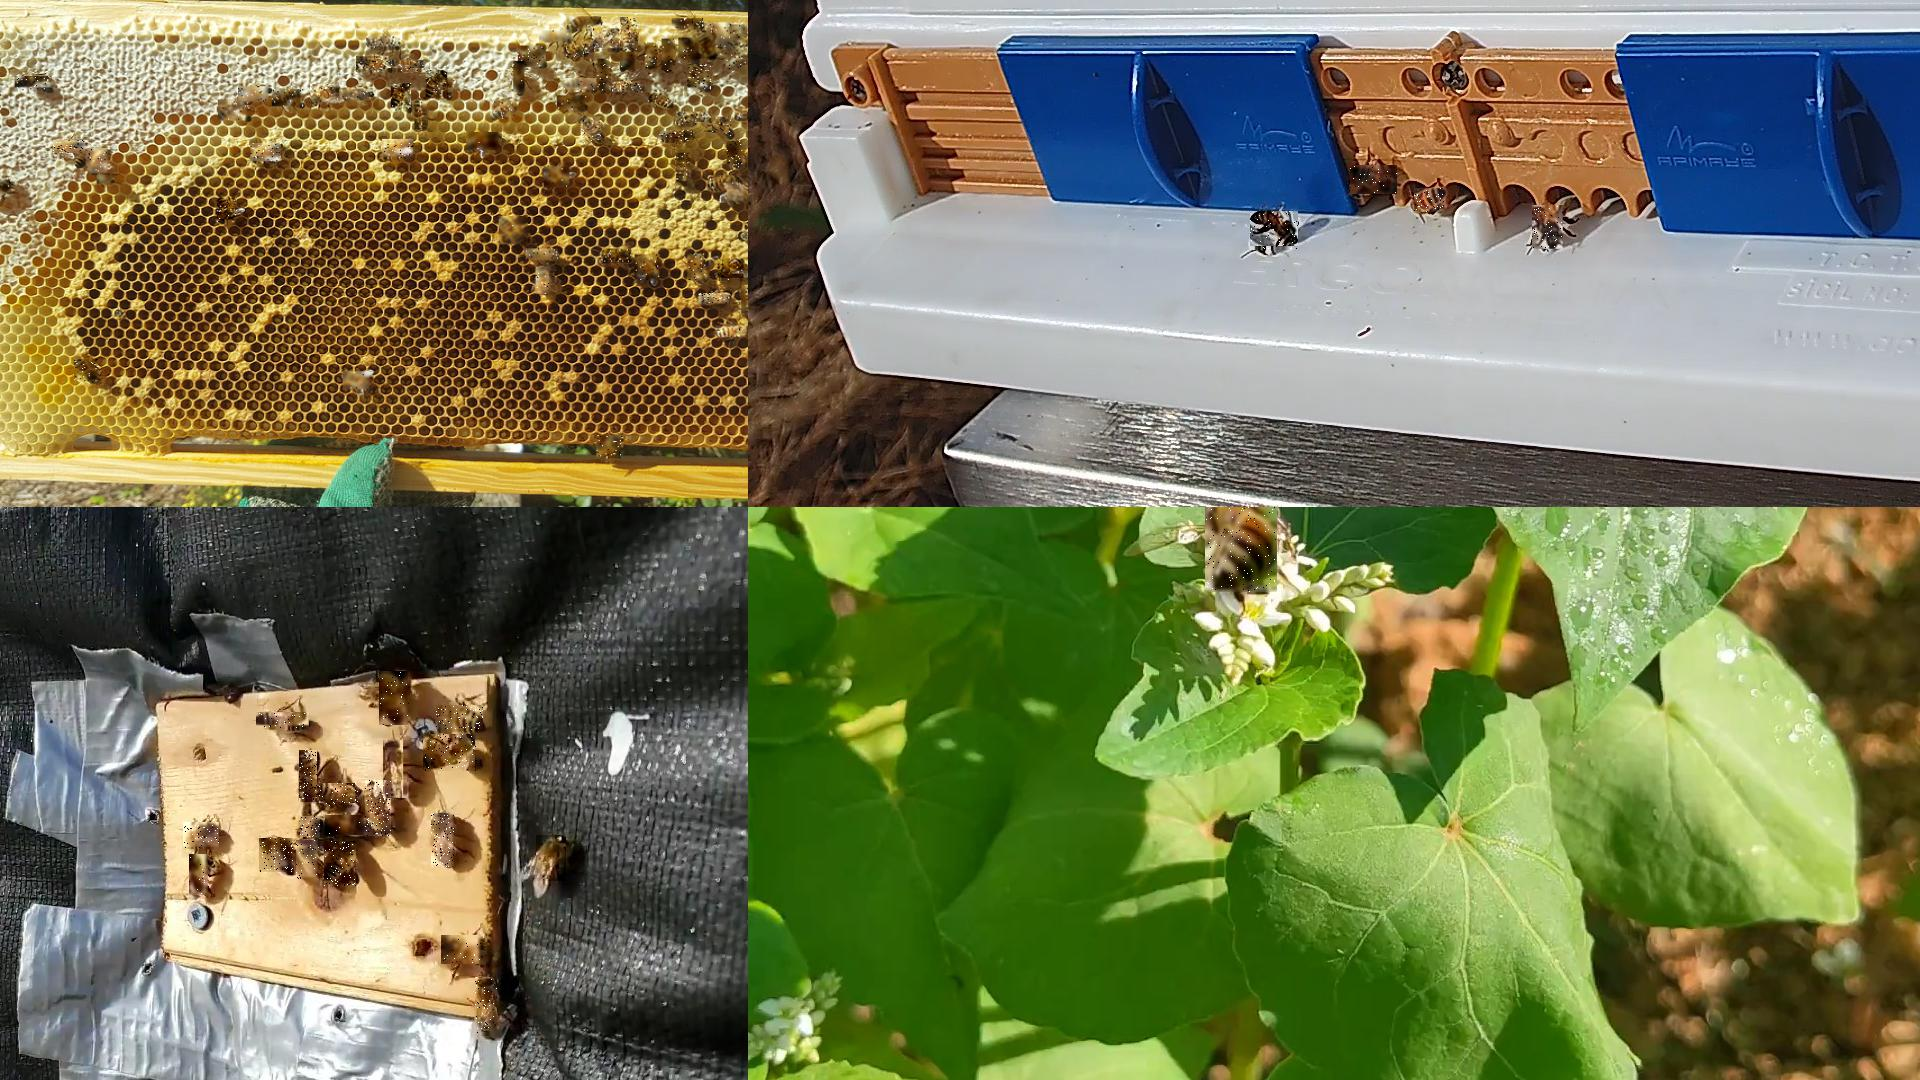bee: (1205, 506, 1279, 595), (423, 735, 480, 771), (1250, 212, 1299, 251), (380, 671, 411, 727), (324, 841, 357, 887), (365, 781, 392, 837), (537, 836, 567, 885), (1350, 165, 1398, 195), (1532, 206, 1564, 251), (384, 740, 407, 799), (475, 977, 498, 1036), (433, 814, 458, 869), (442, 935, 484, 965), (260, 839, 295, 874), (436, 705, 484, 732), (299, 750, 318, 803), (183, 823, 220, 849), (319, 785, 360, 808), (297, 841, 320, 881), (256, 713, 310, 731), (500, 216, 531, 245), (190, 855, 211, 898), (326, 815, 367, 836), (1414, 189, 1447, 214), (426, 70, 452, 100), (219, 100, 252, 123), (634, 256, 661, 284), (467, 132, 501, 153), (597, 435, 625, 460), (688, 65, 713, 92), (708, 24, 733, 50), (592, 29, 620, 53), (381, 140, 414, 160), (518, 46, 547, 69), (390, 84, 413, 113), (582, 117, 605, 144), (251, 142, 282, 162), (545, 166, 571, 190), (75, 360, 102, 384), (88, 148, 111, 175), (717, 260, 745, 282), (311, 84, 340, 105), (621, 18, 640, 51), (15, 76, 53, 92), (273, 90, 305, 108), (356, 55, 390, 71), (688, 255, 707, 284), (679, 38, 700, 63), (489, 100, 516, 120), (698, 33, 717, 59), (239, 87, 272, 103), (708, 177, 744, 191), (567, 17, 603, 32), (343, 372, 371, 390), (54, 140, 88, 154), (218, 198, 236, 224), (558, 96, 588, 112), (728, 141, 745, 169), (725, 47, 746, 70), (301, 816, 322, 839), (676, 112, 708, 127), (678, 154, 692, 186), (566, 79, 597, 94), (367, 37, 401, 50), (599, 59, 612, 94), (658, 131, 695, 142), (388, 61, 425, 73), (526, 248, 559, 261), (663, 40, 676, 73), (513, 62, 526, 95), (604, 249, 633, 264), (535, 266, 550, 295), (564, 44, 593, 58), (713, 117, 735, 137), (613, 80, 645, 94), (415, 98, 427, 131), (539, 30, 572, 42), (699, 293, 731, 305), (715, 326, 746, 338), (728, 185, 746, 204), (645, 42, 658, 70), (649, 94, 674, 108), (671, 18, 704, 29), (620, 51, 636, 71), (340, 90, 373, 99), (76, 152, 95, 167), (732, 25, 746, 45), (0, 178, 13, 199), (98, 174, 115, 185), (735, 108, 746, 121), (741, 286, 746, 314)
